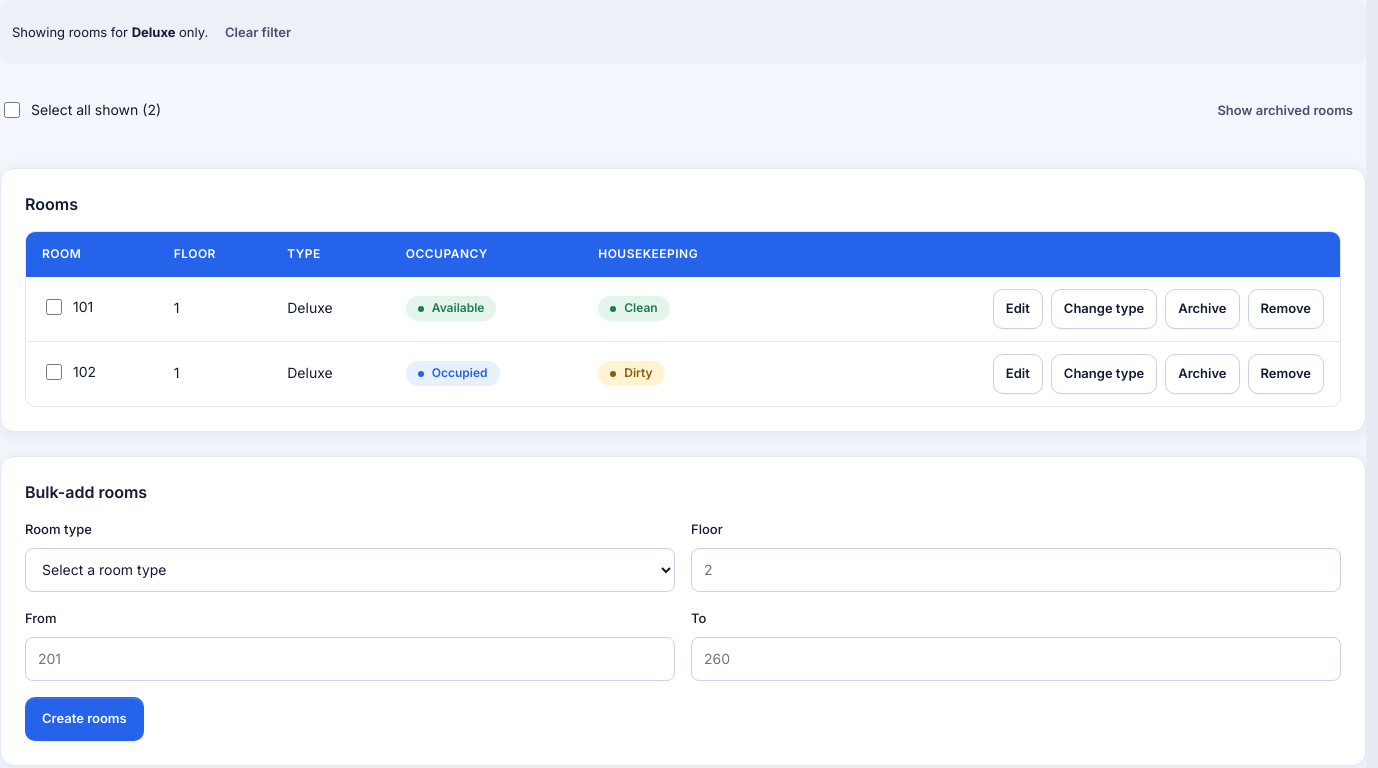
<RoomsTab> › managing rooms after creation › selection › "Select all shown" covers only the rooms currently shown, and the bulk actions appear once something is selected
The width and height of the screenshot is (1378, 768).
Expected: the text "101" is shown, [42,296,93,318]
Expected: the text "selected" is not shown
Click the checkbox named "Select all shown rooms".
click(12, 110)  # box [4,102,20,118]
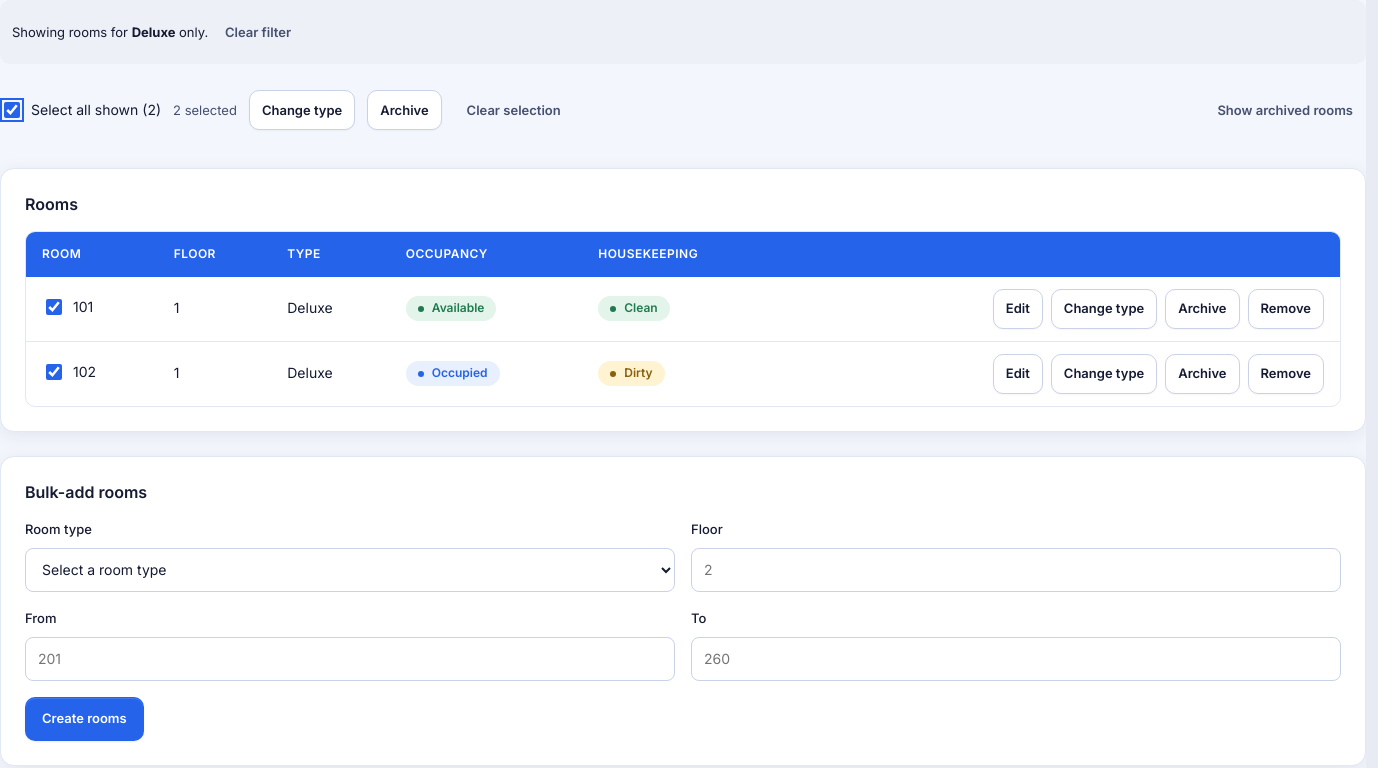
Result: the text "2 selected" is shown at [173,100,237,120]
Result: the checkbox named "Select room 101" is checked at [46,299,62,315]
Click the button "Clear selection".
click(514, 110)  # box [454,90,574,130]
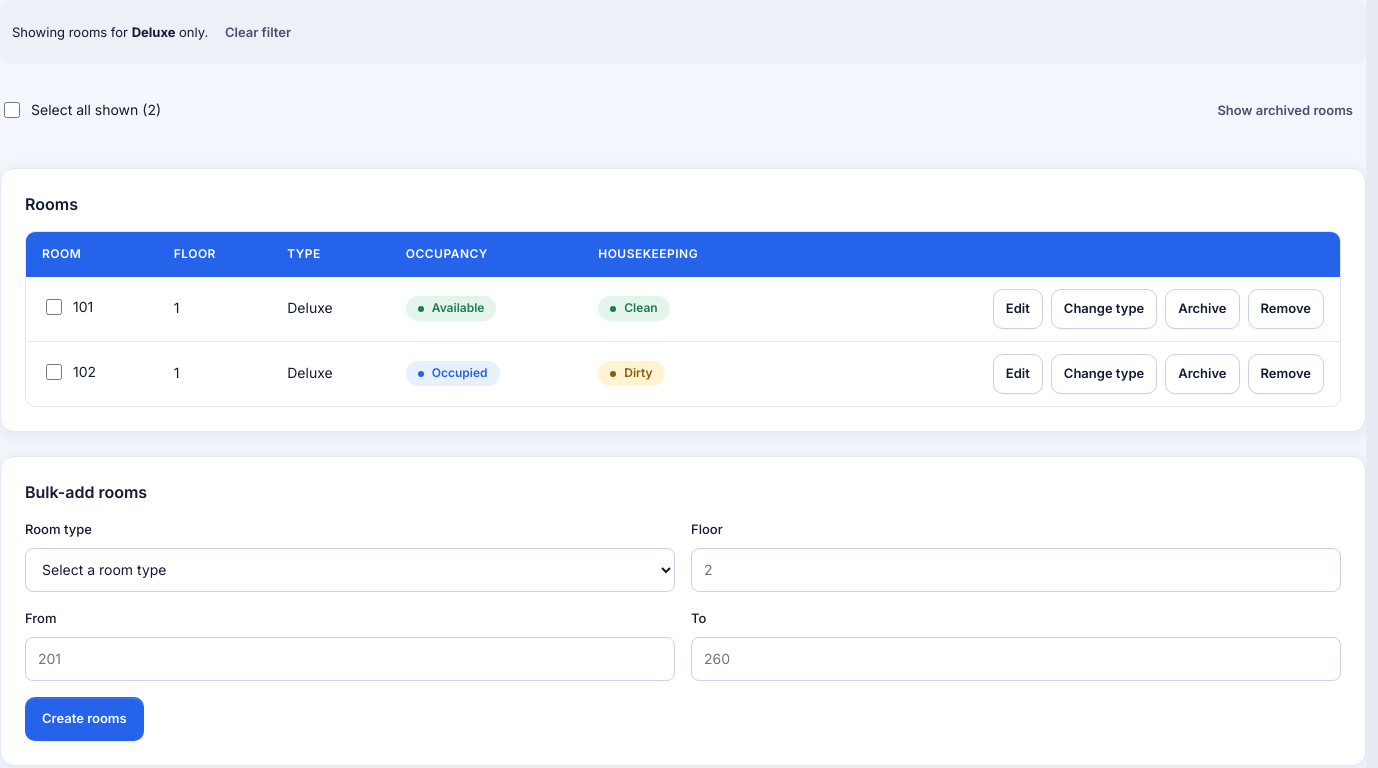
Result: the text "2 selected" is gone
